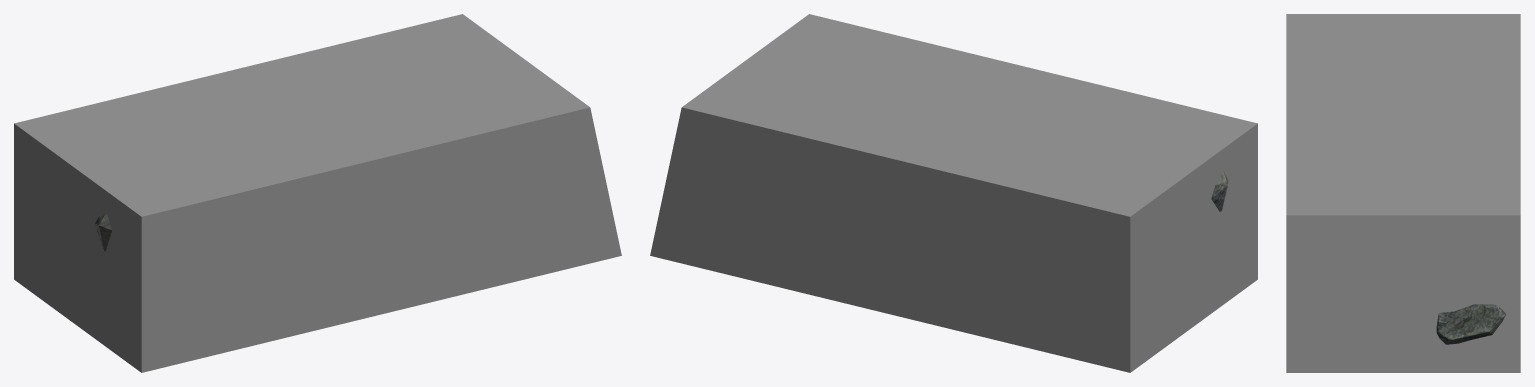
File: Scene_Object_ShiDun_6.FBX
3 renders of one model, left to right at view 1: azimuth 30°, elevation 25°; view 2: azimuth 150°, elevation 25°; view 3: azimuth 270°, elevation 25°, orthographic. The views are drawn at different scales.
Visible parts, largest first — view 1: Scene_Object_ShiDun_6_Xzm; view 2: Scene_Object_ShiDun_6_Xzm; view 3: Scene_Object_ShiDun_6_Xzm, Scene_Object_ShiDun_6.
Part boxes in pixels (x1=…): Scene_Object_ShiDun_6_Xzm: x1=14, y1=14, x2=621, y2=372; Scene_Object_ShiDun_6_Xzm: x1=650, y1=14, x2=1257, y2=372; Scene_Object_ShiDun_6_Xzm: x1=1286, y1=14, x2=1520, y2=372; Scene_Object_ShiDun_6: x1=1436, y1=304, x2=1505, y2=344.
Size of the model in its own units: 408 by 125 by 185.
